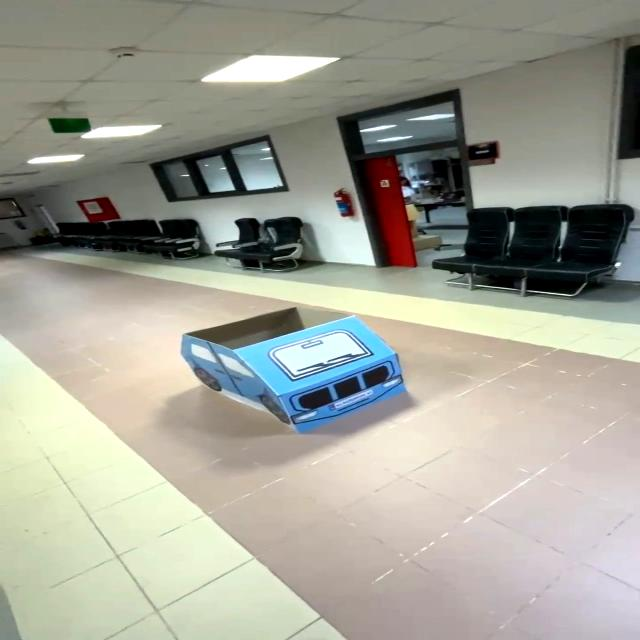blue_car: (162, 295, 438, 443)
